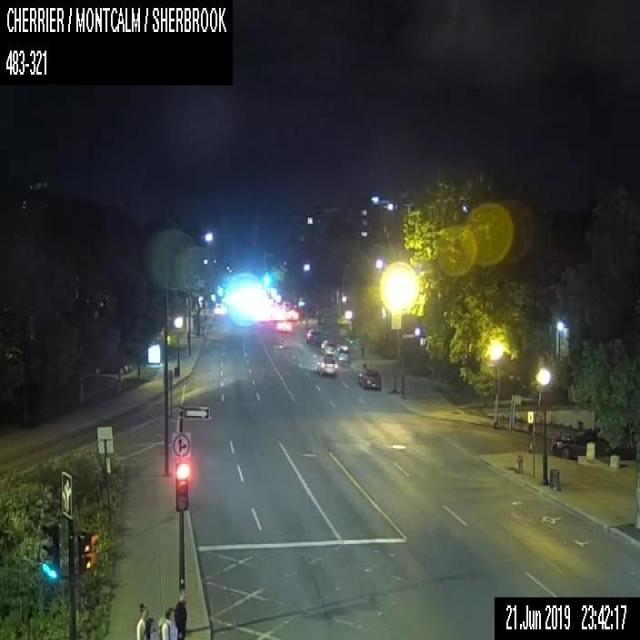pedestrian: (173, 588, 186, 638), (159, 606, 177, 639), (134, 602, 148, 639), (145, 616, 158, 639)
vehicle: (552, 429, 604, 458), (316, 350, 338, 376), (357, 368, 381, 390), (94, 361, 130, 373), (334, 344, 348, 362), (319, 339, 334, 355), (306, 328, 320, 344), (276, 318, 291, 331), (213, 302, 225, 314)
